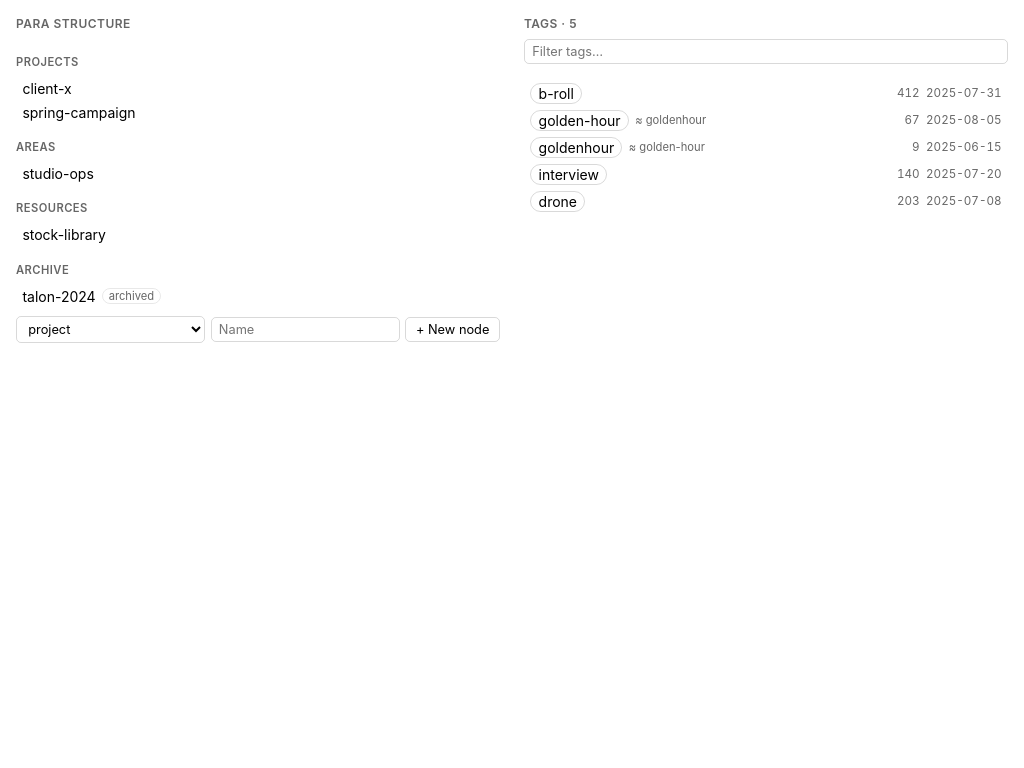
it: Escape dismisses the modal without archiving
Click the button "client-x": (47, 89) left=16, top=77, right=500, bottom=100
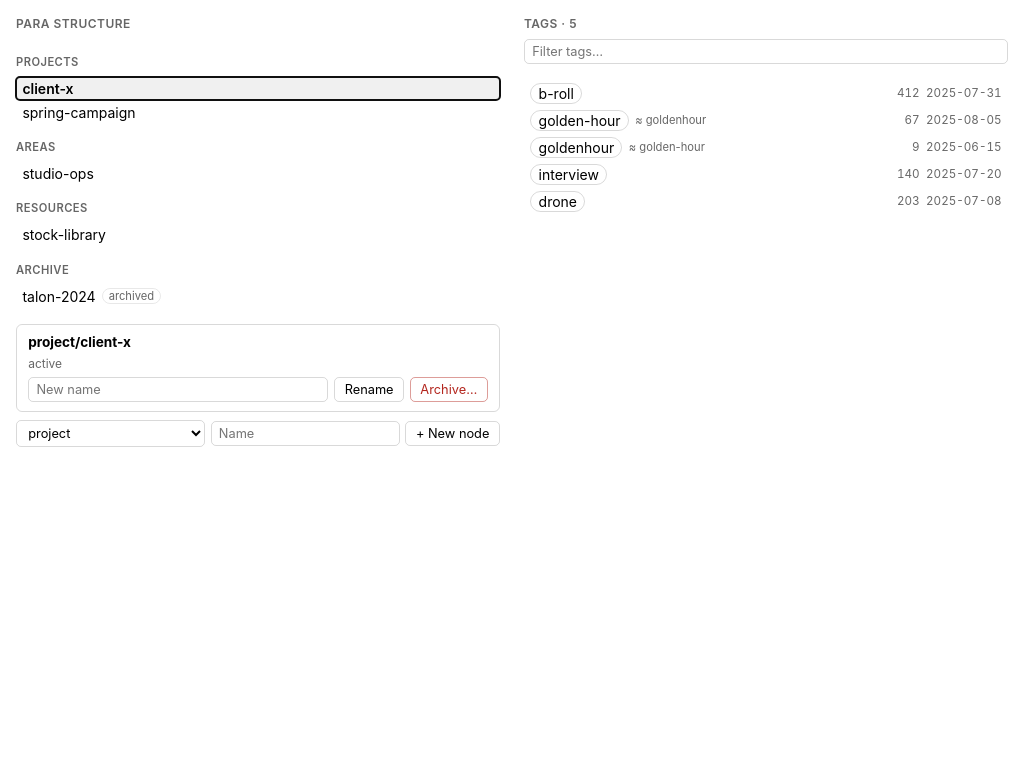
Click the button "Archive…": (449, 389) left=410, top=377, right=488, bottom=402
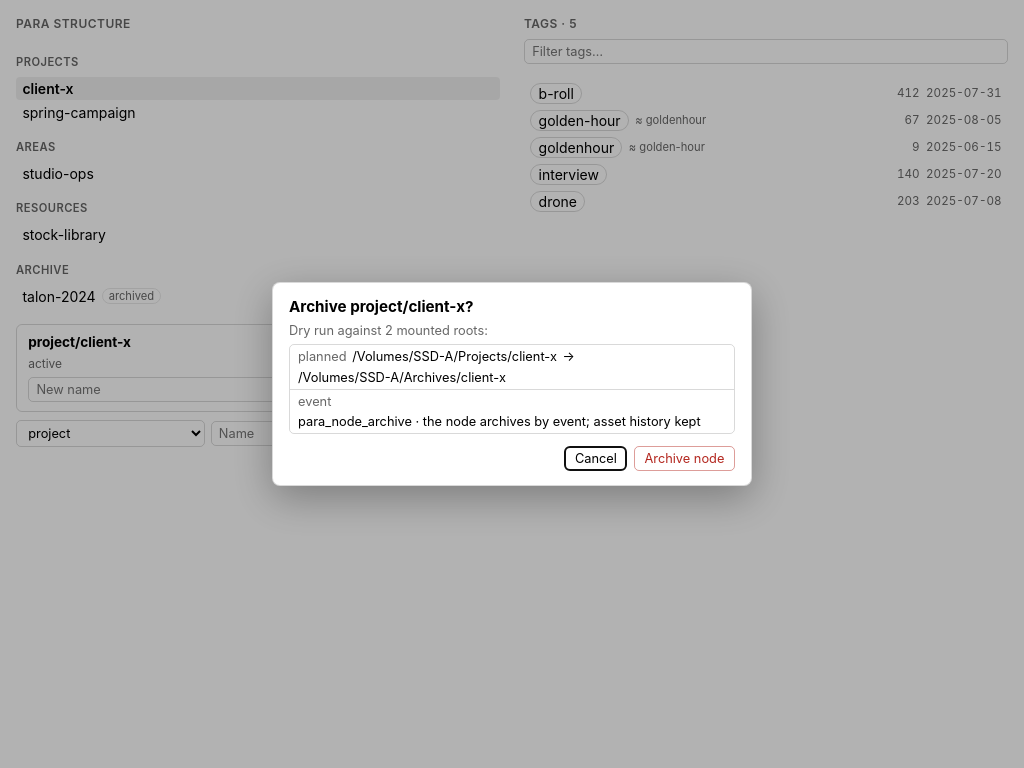
Press Escape
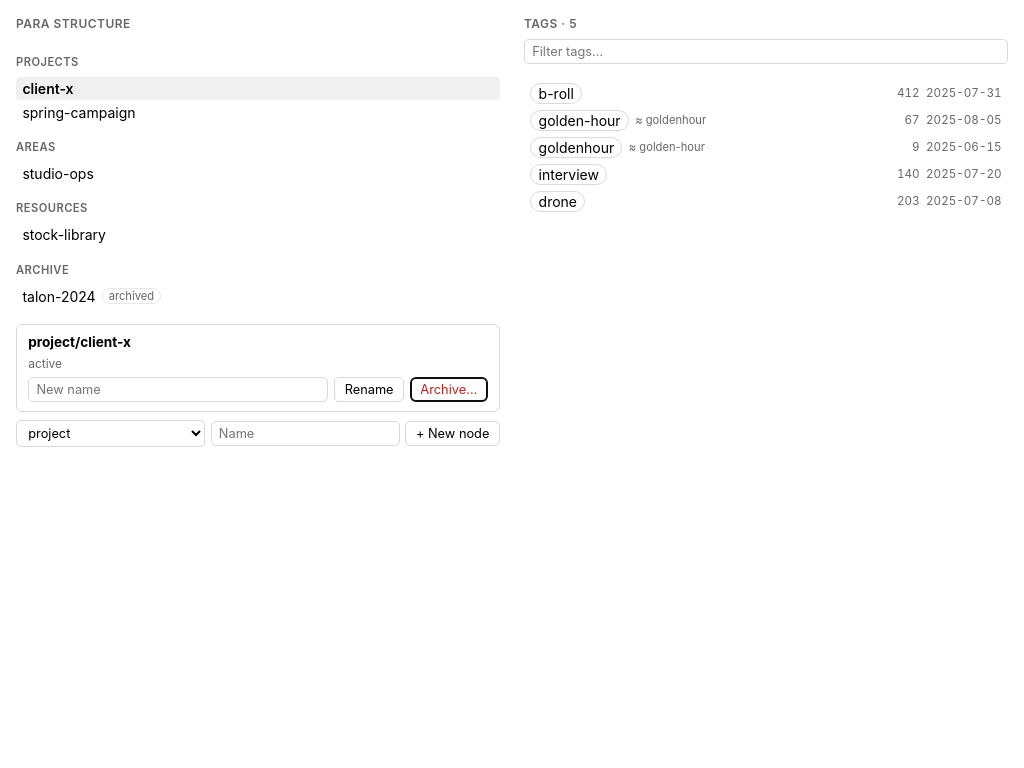
Expected: the dialog is gone
